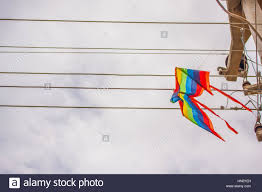kite: (172, 65, 255, 145)
